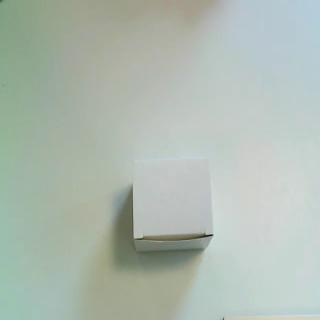apodorm5mg: (132, 155, 216, 255)
